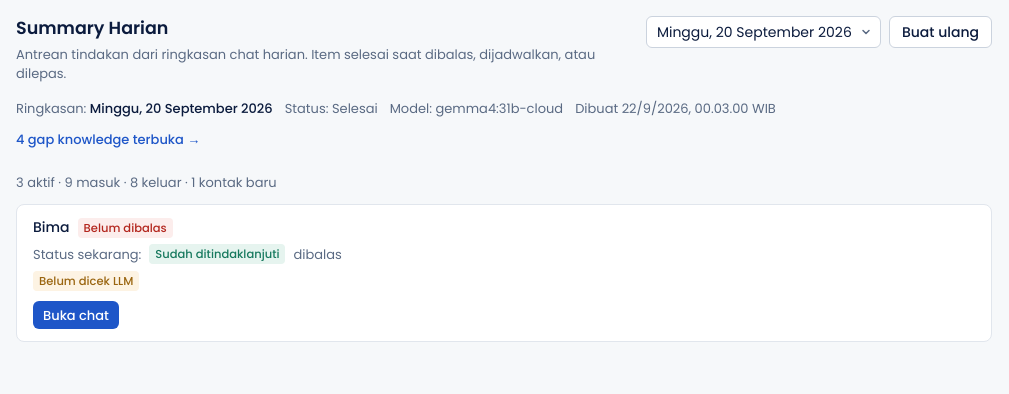
Scenario: DailySummaryPage › ?date= di URL langsung membuka tanggal itu; Buat ulang membuat ulang tanggal itu
expect the list item "Bima" is shown: met, box top-left (33, 217), bottom-right (342, 329)
expect the dropdown named "Pilih tampilan" shows "Minggu, 20 September 2026": met, box top-left (646, 16), bottom-right (881, 48)
Click the button "Buat ulang": [940, 32] box top-left (889, 16), bottom-right (992, 48)
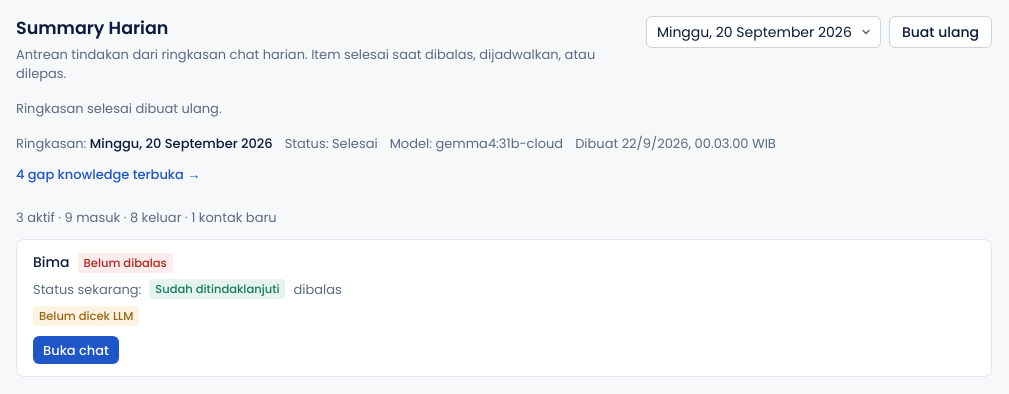
expect the text "Ringkasan selesai dibuat ulang." is shown: met, box top-left (16, 99), bottom-right (222, 118)
